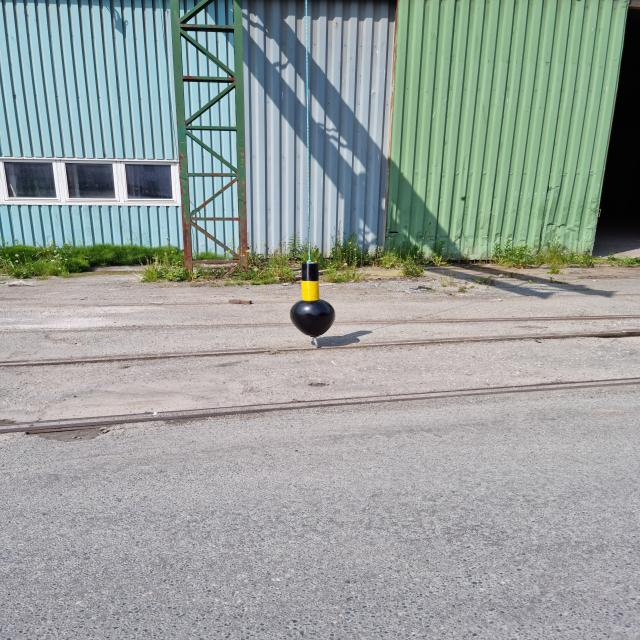east: (289, 262, 336, 337)
